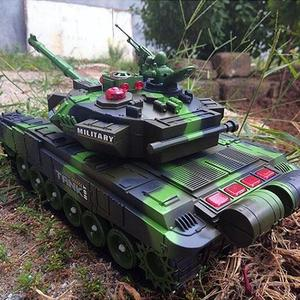Battle Tank: (8, 63, 274, 269)
